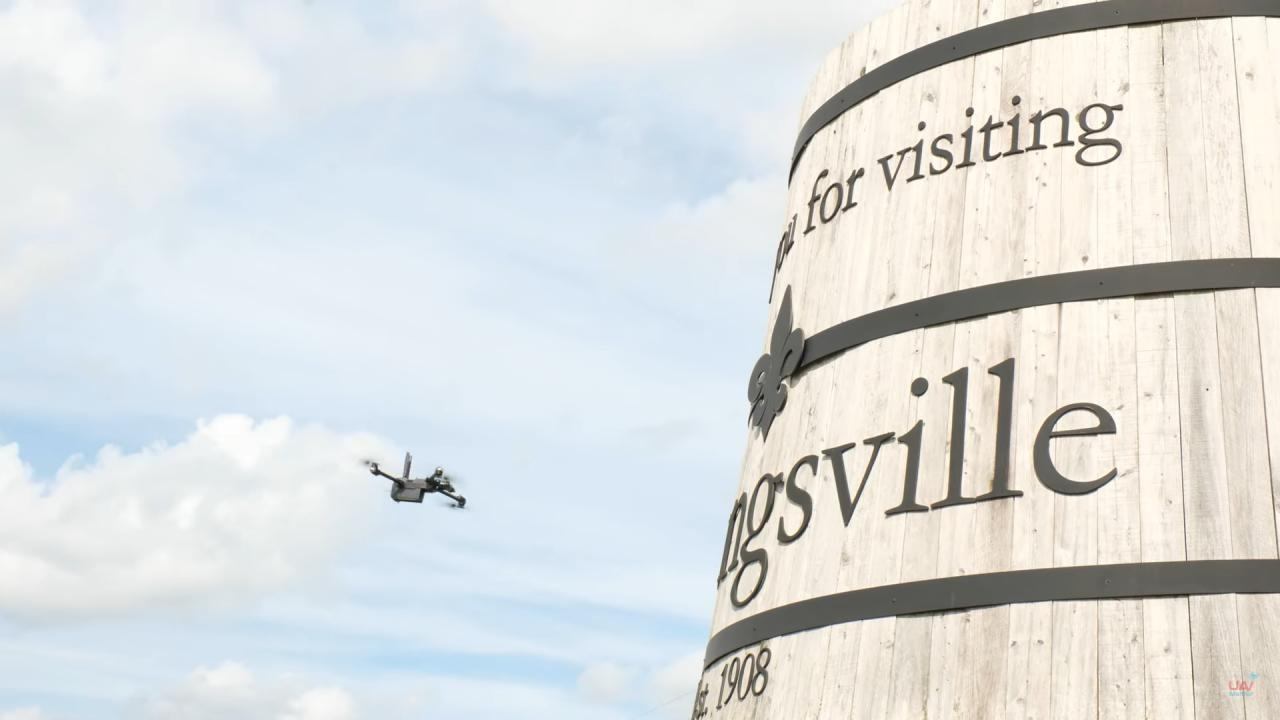Drone: (347, 441, 479, 527)
